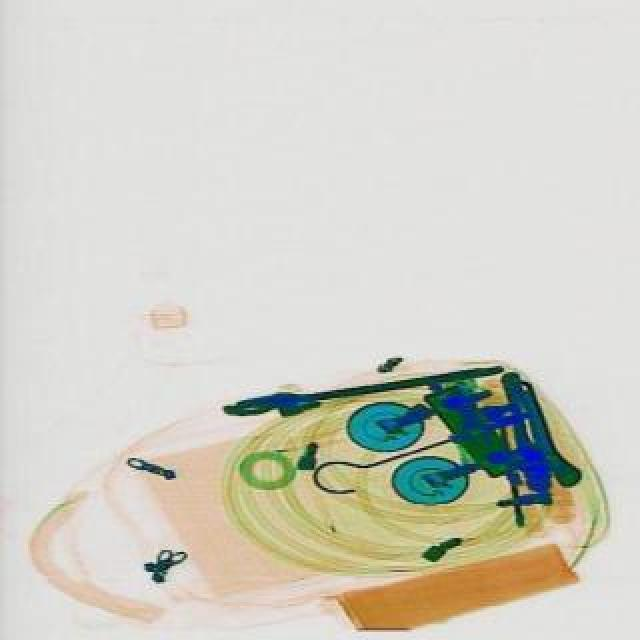scissors: (218, 356, 502, 420), (502, 370, 582, 494)
